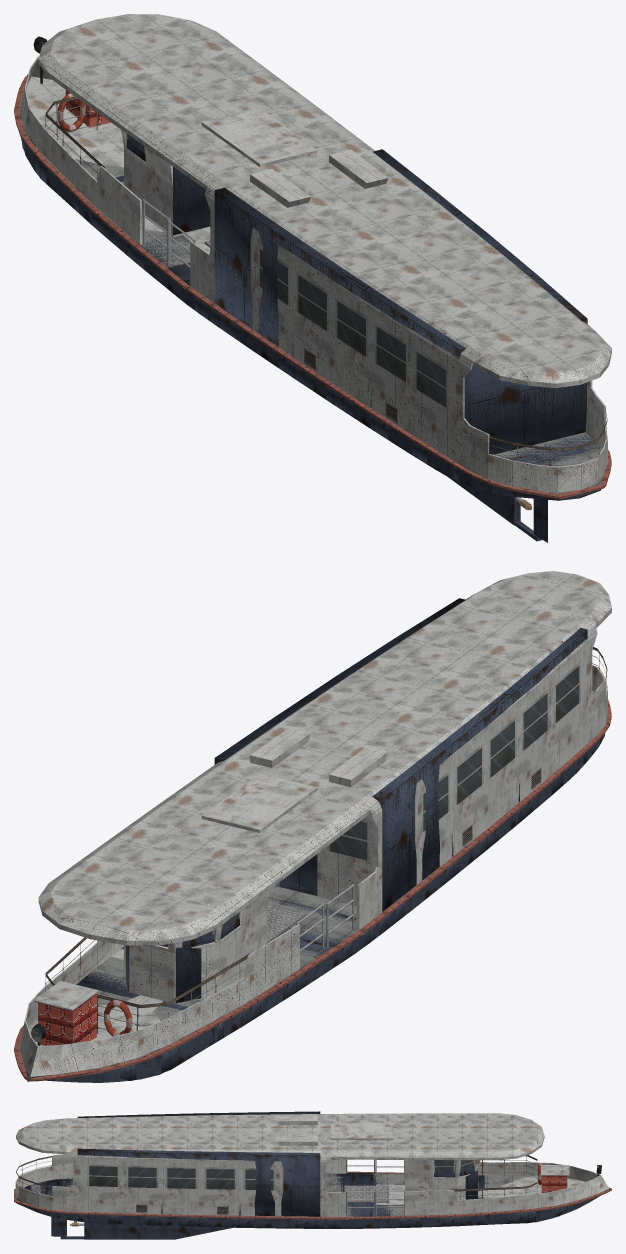
The model's file is Vaporetto_Worn.glb.
3 renders of one model, top to bottom at view 1: azimuth 30°, elevation 25°; view 2: azimuth 150°, elevation 25°; view 3: azimuth 270°, elevation 25°, orthographic. The views are drawn at different scales.
Parts seen in each view (by area): view 1: Roof, Superstructure, HydroHull, Hull, Windows, Fittings, Railings; view 2: Roof, Superstructure, HydroHull, Hull, Windows, Fittings, Railings, Fitout; view 3: Roof, Superstructure, HydroHull, Hull, Windows, Railings, Fitout, Fittings, Rudder, Gate_Stbd_Aft, Gate_Stbd_Fwd.
Part boxes in pixels (left/top/right/bottom): Roof: left=26, top=14, right=611, bottom=388; Superstructure: left=20, top=56, right=607, bottom=492; HydroHull: left=20, top=74, right=602, bottom=500; Hull: left=14, top=74, right=611, bottom=541; Windows: left=126, top=133, right=448, bottom=408; Fittings: left=33, top=36, right=397, bottom=423; Railings: left=45, top=96, right=607, bottom=466; Roof: left=28, top=571, right=611, bottom=1045; Superstructure: left=20, top=633, right=607, bottom=1076; HydroHull: left=25, top=598, right=601, bottom=1080; Hull: left=14, top=690, right=611, bottom=1082; Windows: left=205, top=661, right=580, bottom=934; Fittings: left=31, top=768, right=541, bottom=1045; Railings: left=45, top=647, right=607, bottom=1033; Fitout: left=267, top=904, right=306, bottom=943; Roof: left=16, top=1113, right=584, bottom=1219; Superstructure: left=15, top=1115, right=608, bottom=1216; HydroHull: left=16, top=1111, right=611, bottom=1228; Hull: left=14, top=1171, right=611, bottom=1239; Windows: left=87, top=1160, right=475, bottom=1190; Railings: left=16, top=1155, right=537, bottom=1199; Fitout: left=344, top=1185, right=389, bottom=1202; Fittings: left=136, top=1163, right=601, bottom=1214; Rudder: left=51, top=1217, right=66, bottom=1236; Gate_Stbd_Aft: left=346, top=1191, right=375, bottom=1215; Gate_Stbd_Fwd: left=375, top=1190, right=404, bottom=1214.
Size of what is drawn, in the model's own units: 4.44 by 4.86 by 23.93.
Materials: 13 (13 with a texture image).
